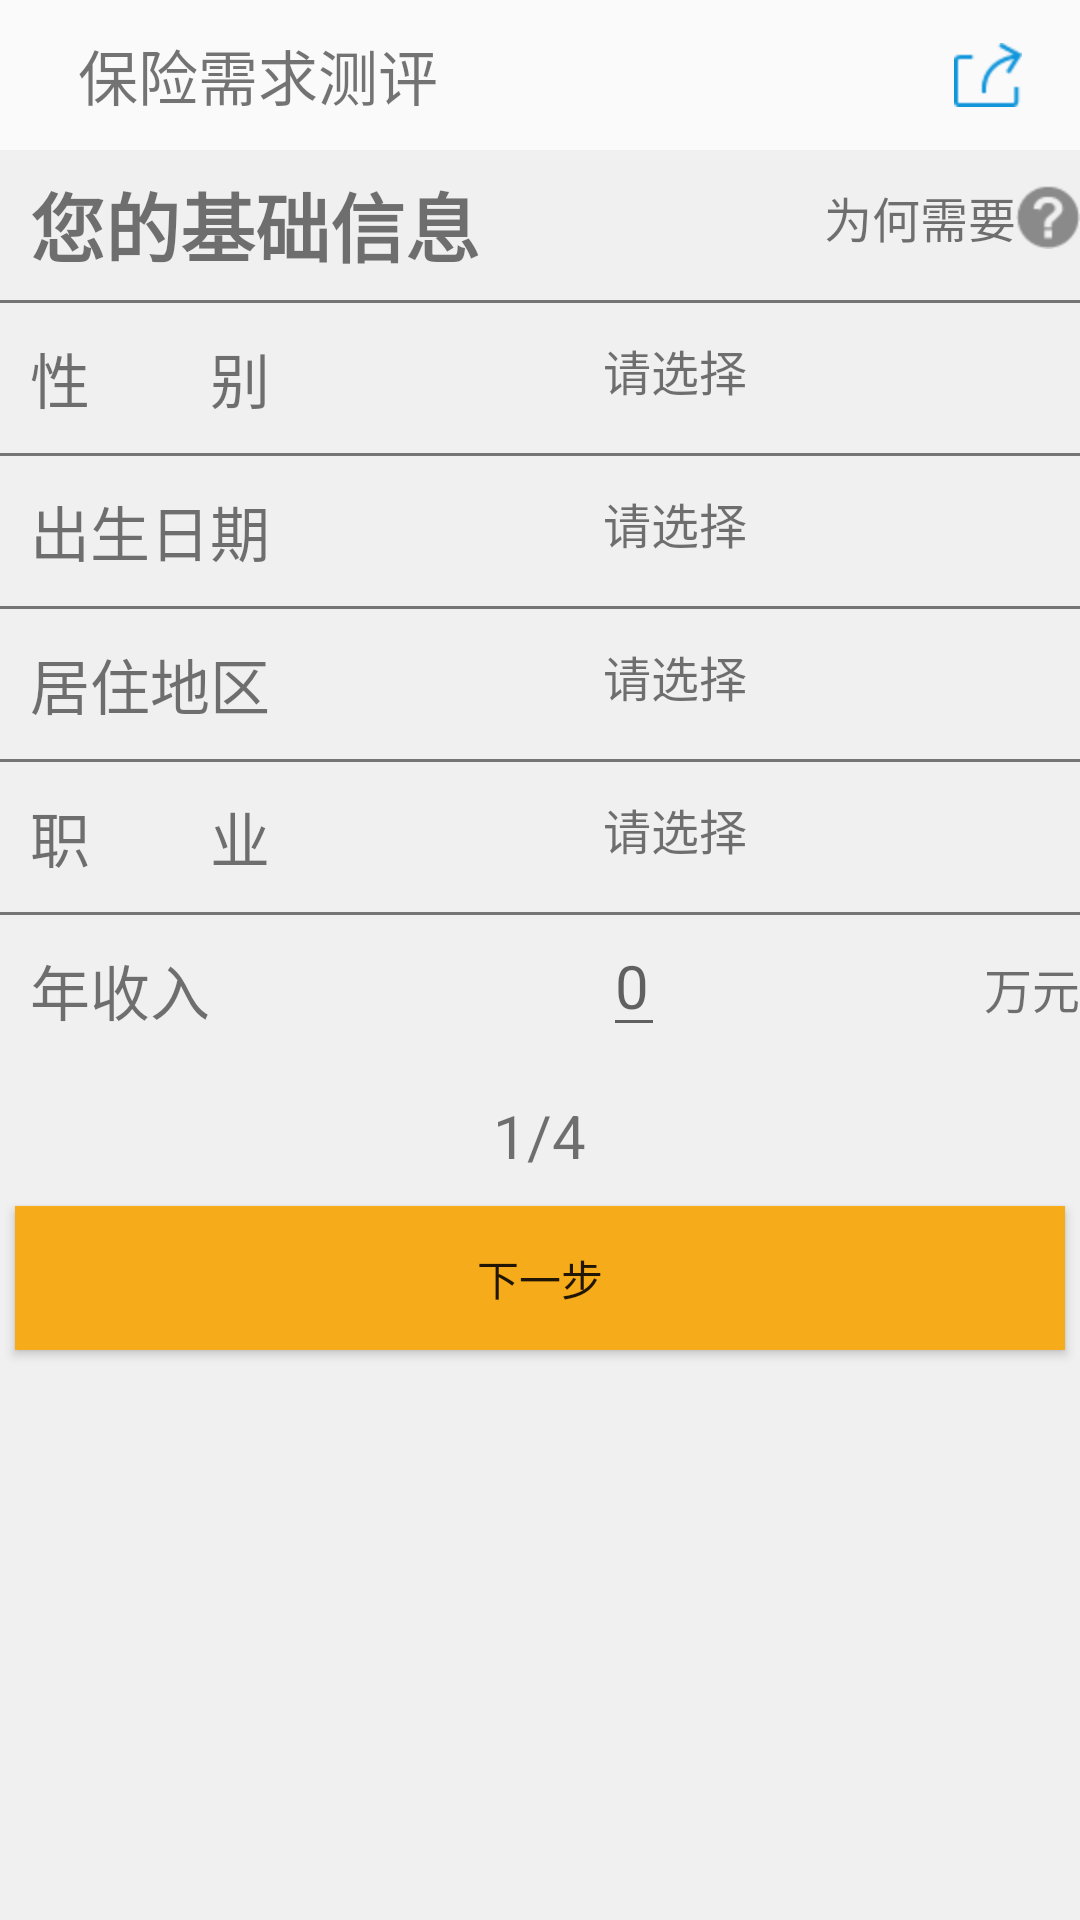

Icons on this 1080×1920 Android screen, each with the point to tap as point (x, y):
share: point (988, 75)
